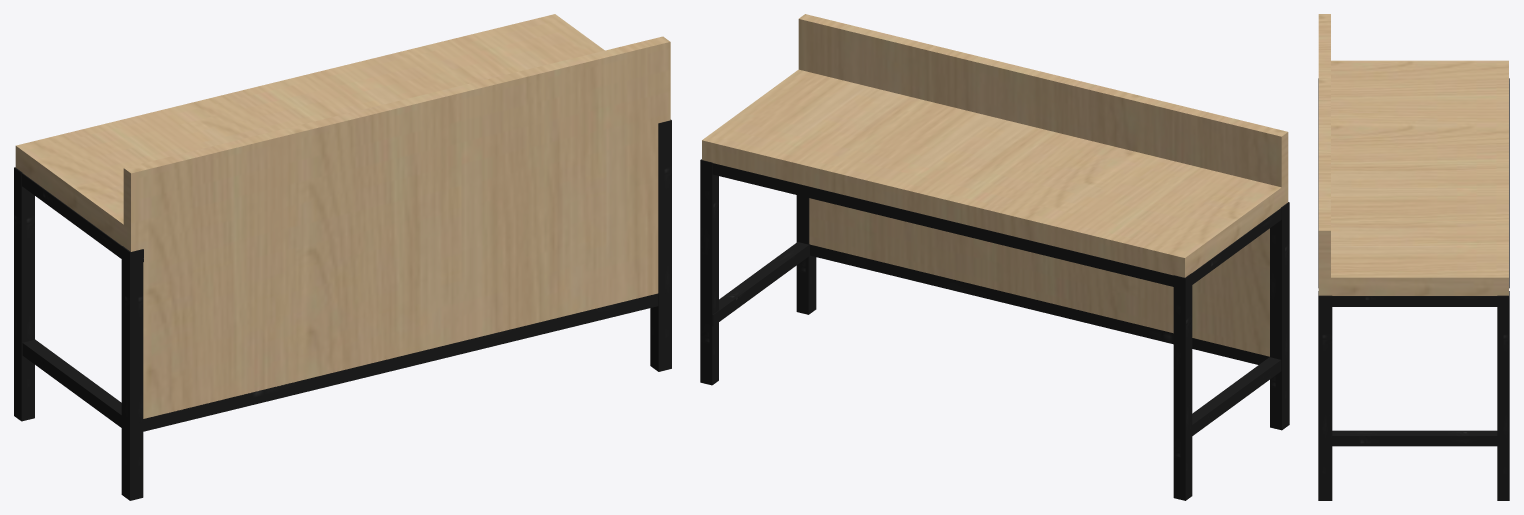
Rendered from high_table.fbx.
3 renders of one model, left to right at view 1: azimuth 30°, elevation 25°; view 2: azimuth 150°, elevation 25°; view 3: azimuth 270°, elevation 25°, orthographic. The views are drawn at different scales.
Visible parts, largest first — view 1: pCube13; view 2: pCube13; view 3: pCube13.
Part boxes in pixels (x1=…): pCube13: x1=14, y1=14, x2=671, y2=500; pCube13: x1=700, y1=14, x2=1289, y2=500; pCube13: x1=1318, y1=14, x2=1509, y2=500.
Bounding box in the file's own units: 1.34 × 0.771 × 0.4959.
1 material, 1 textured.
